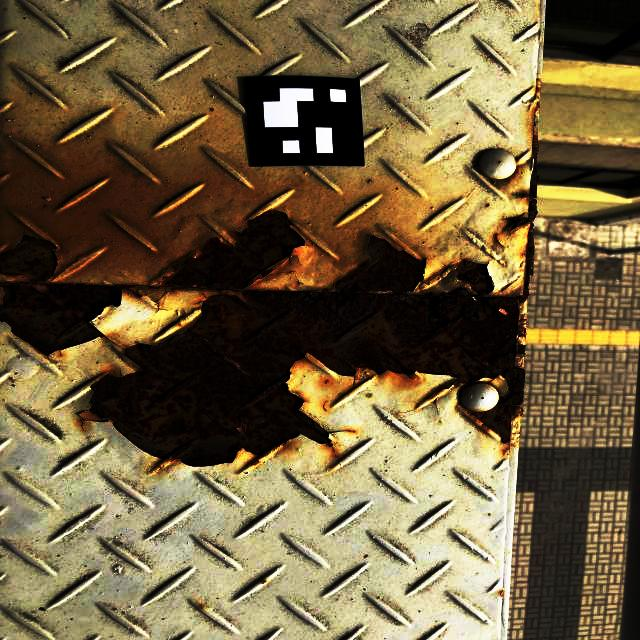Corrosion: (90, 161, 541, 466), (0, 234, 141, 356)
